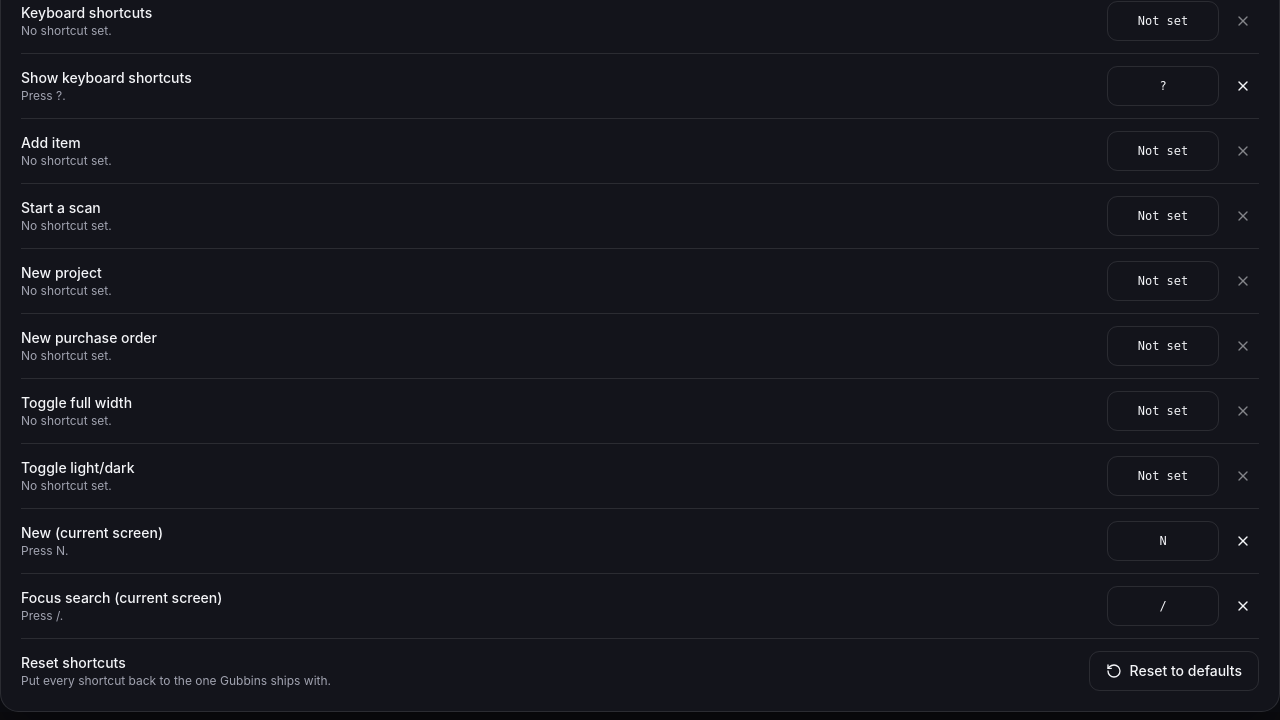
Scenario: HotkeySettings › records the next chord pressed as the new binding
(page scrolled)
Click the button with test id "hotkey-record-action.toggleTheme" at (1163, 476), box x1=1107 y1=456 x2=1219 y2=496
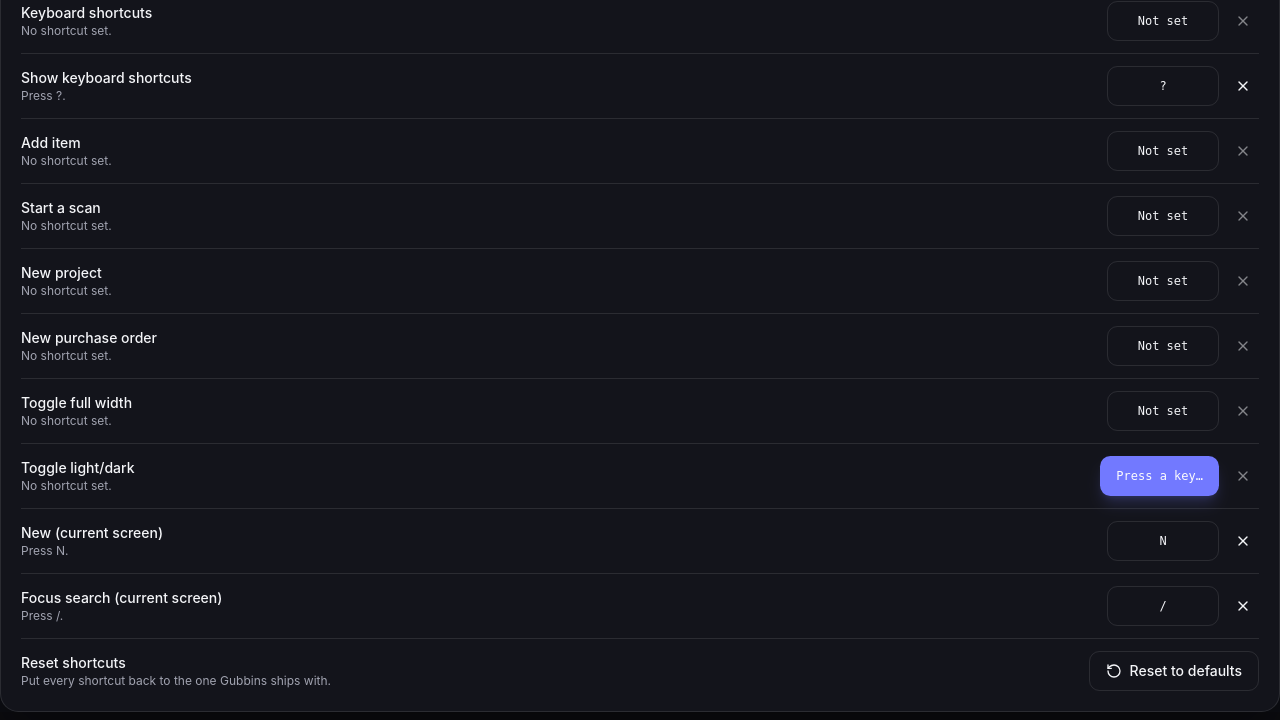
Press r
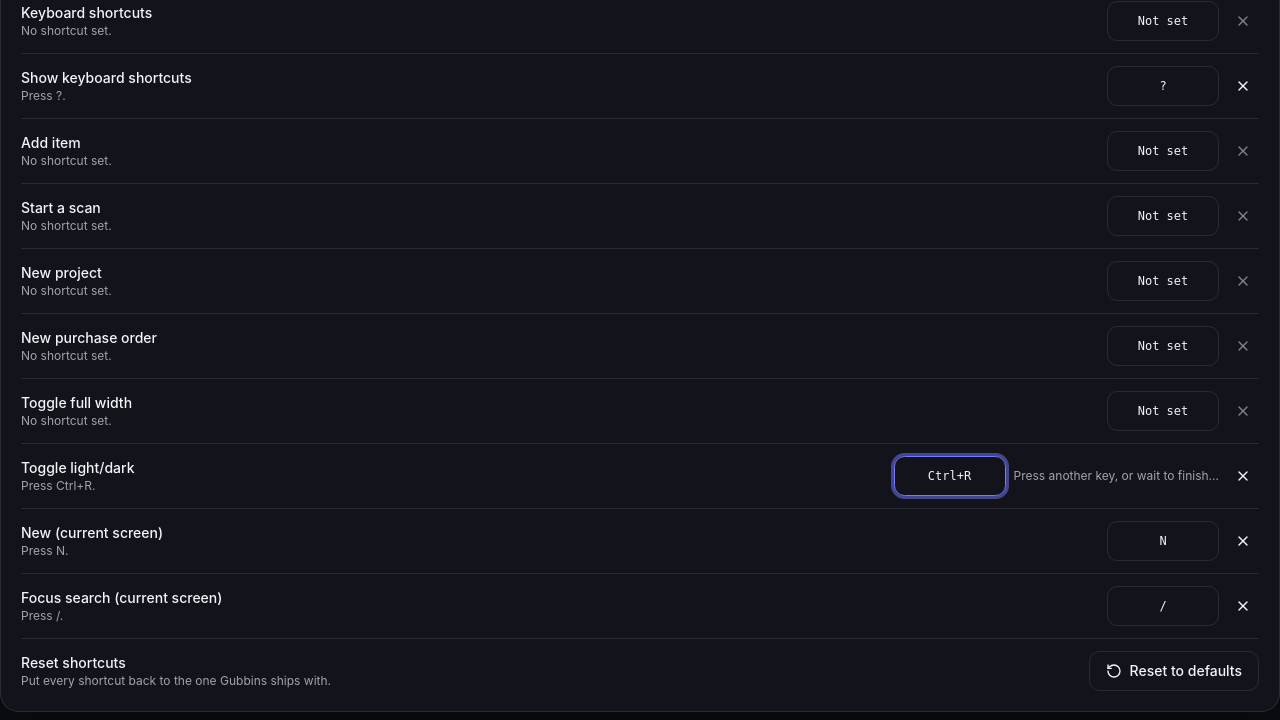
Now the button with test id "hotkey-record-action.toggleTheme" reads "Ctrl+R", box x1=894 y1=456 x2=1006 y2=496
